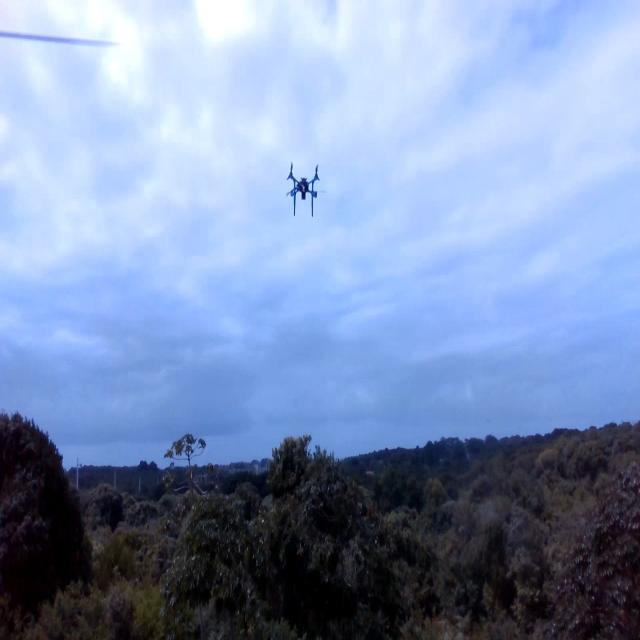-uav-: (272, 148, 332, 227)
